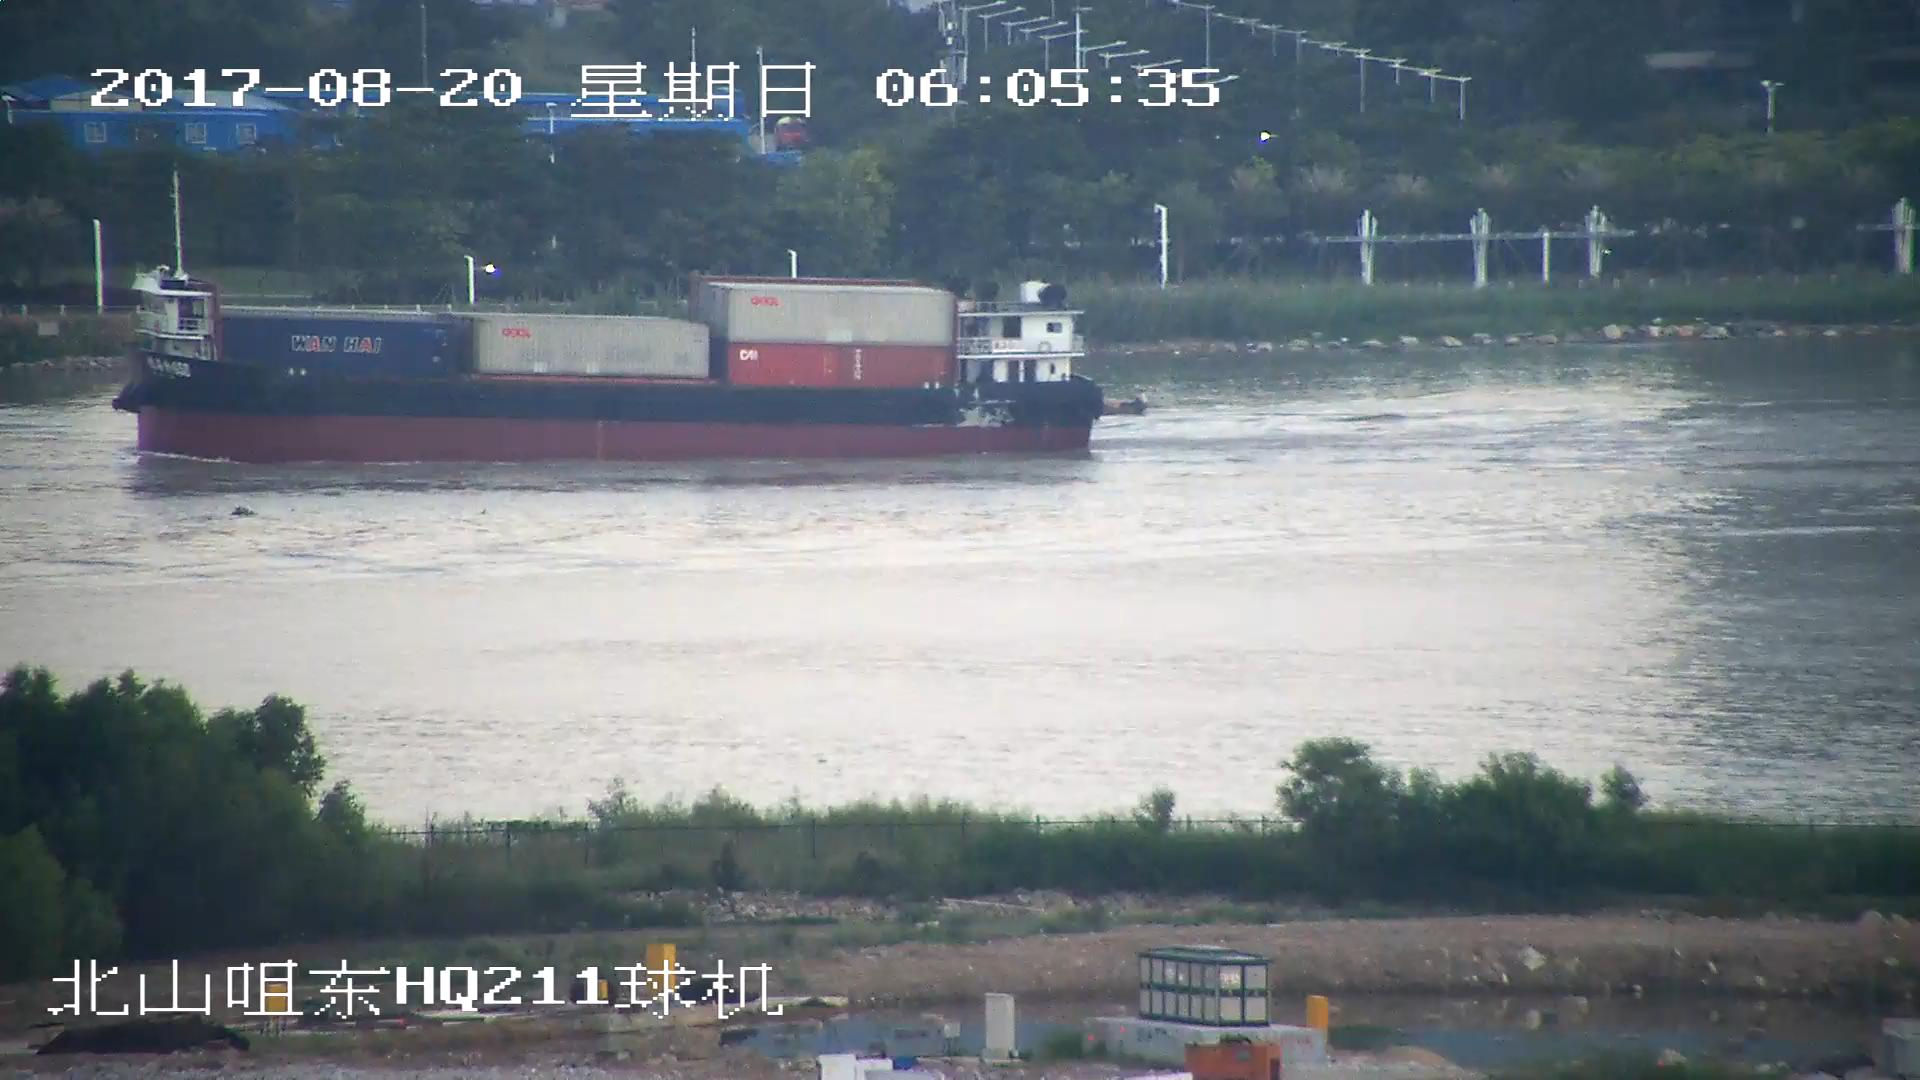container ship: (110, 175, 1099, 461)
